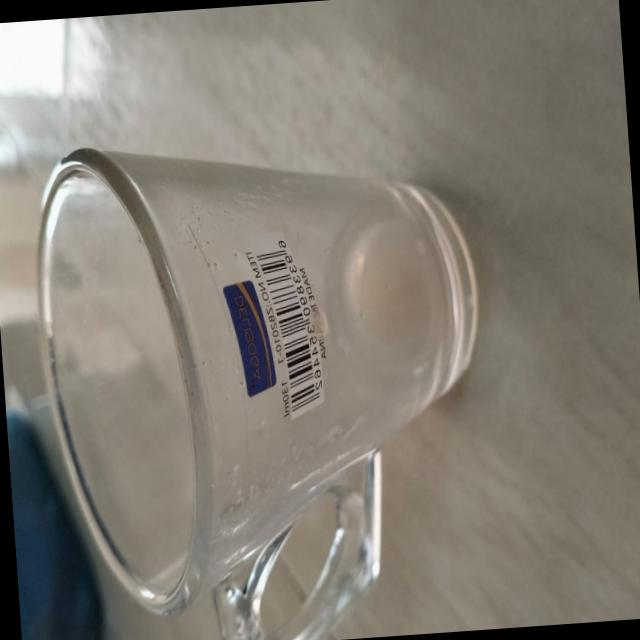glass-VX4N: (27, 120, 503, 640)
